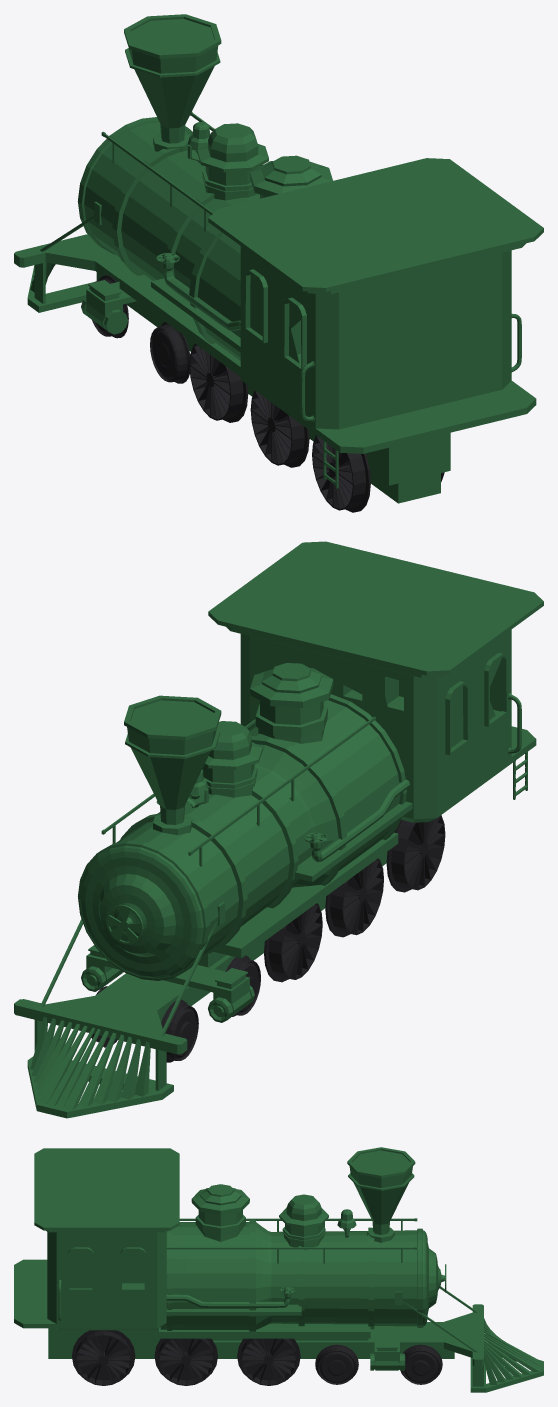
File: locomotive.glb
The picture shows the model from 3 angles, top to bottom: view 1: azimuth 30°, elevation 25°; view 2: azimuth 150°, elevation 25°; view 3: azimuth 270°, elevation 25°; orthographic projection. The views are drawn at different scales.
Visible parts, largest first — view 1: Locomotive_Cube, BigWheels1_Cylinder.004, BigWheels3_Cylinder.006, BigWheels2_Cylinder.007, SmallWheels_2_Cylinder.002; view 2: Locomotive_Cube, BigWheels3_Cylinder.006, BigWheels1_Cylinder.004, BigWheels2_Cylinder.007, SmallWheels1_Cylinder, SmallWheels_2_Cylinder.002; view 3: Locomotive_Cube, BigWheels3_Cylinder.006, BigWheels1_Cylinder.004, BigWheels2_Cylinder.007, SmallWheels_2_Cylinder.002, SmallWheels1_Cylinder.
Part boxes in pixels (box(x1,y1,x2,y2)): Locomotive_Cube: box(14, 14, 543, 503); BigWheels1_Cylinder.004: box(189, 344, 248, 422); BigWheels3_Cylinder.006: box(312, 435, 444, 512); BigWheels2_Cylinder.007: box(250, 390, 309, 467); SmallWheels_2_Cylinder.002: box(150, 322, 190, 383); Locomotive_Cube: box(14, 541, 543, 1118); BigWheels3_Cylinder.006: box(386, 815, 445, 892); BigWheels1_Cylinder.004: box(264, 903, 322, 982); BigWheels2_Cylinder.007: box(325, 858, 383, 937); SmallWheels1_Cylinder: box(91, 986, 198, 1062); SmallWheels_2_Cylinder.002: box(225, 955, 260, 1016); Locomotive_Cube: box(14, 1147, 543, 1392); BigWheels3_Cylinder.006: box(72, 1330, 135, 1385); BigWheels1_Cylinder.004: box(237, 1338, 300, 1385); BigWheels2_Cylinder.007: box(154, 1338, 217, 1385); SmallWheels_2_Cylinder.002: box(315, 1344, 358, 1384); SmallWheels1_Cylinder: box(400, 1344, 442, 1384).
Size of the model in its own units: 2.87 by 3.58 by 8.09.
